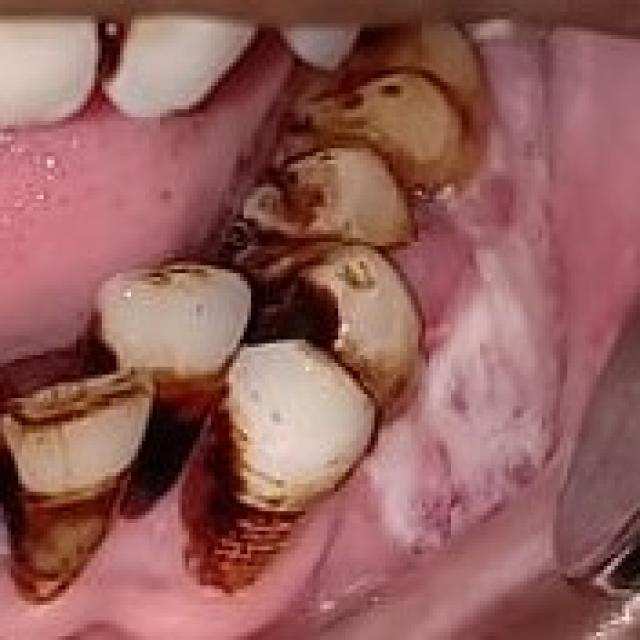Cancer: (301, 16, 568, 627)
